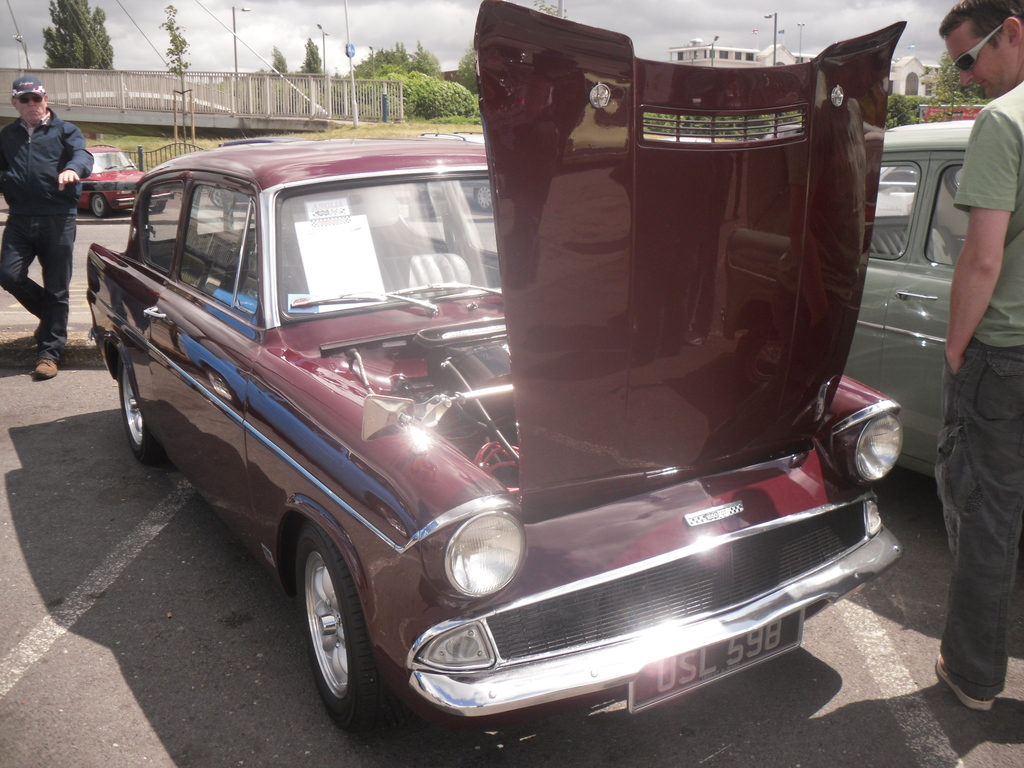cars: (88, 0, 907, 743), (838, 117, 982, 472), (79, 136, 147, 209)
